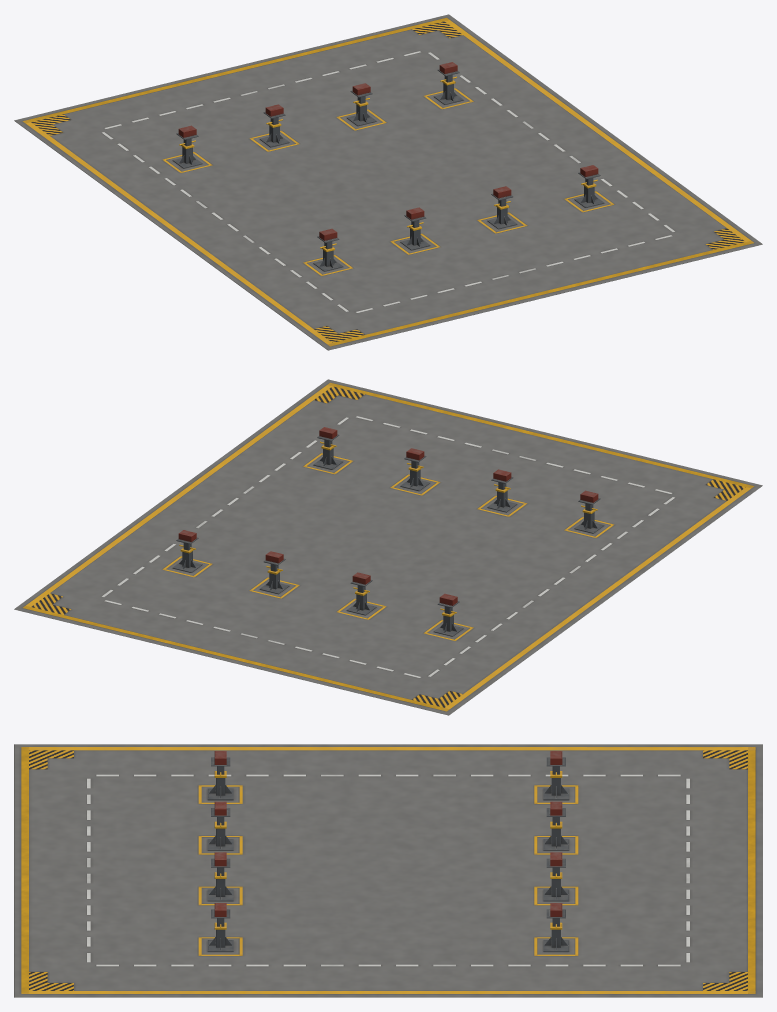
Rendered from BlockWorkspace.fbx.
3 renders of one model, top to bottom at view 1: azimuth 30°, elevation 25°; view 2: azimuth 150°, elevation 25°; view 3: azimuth 270°, elevation 25°, orthographic. The views are drawn at different scales.
Parts seen in each view (by area): view 1: BlockWorkspace_LOD0; view 2: BlockWorkspace_LOD0; view 3: BlockWorkspace_LOD0.
Boxes of the visible parts, bbox=[...] form: BlockWorkspace_LOD0: bbox=[14, 14, 762, 350]; BlockWorkspace_LOD0: bbox=[14, 379, 762, 715]; BlockWorkspace_LOD0: bbox=[14, 744, 762, 997].
Size of what is drawn, in the model's own units: 16 by 1.2 by 20.
Materials: 1 (1 with a texture image).
